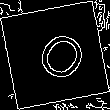O_SW: (23, 22, 87, 88)
